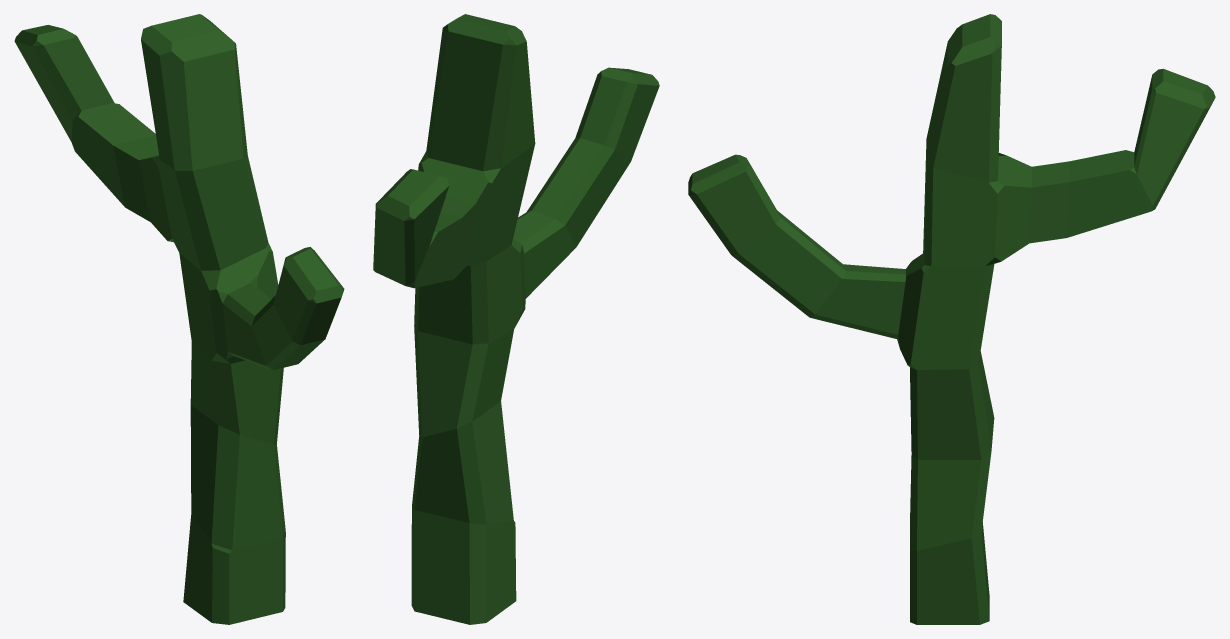
The model's file is cactus.fbx.
3 renders of one model, left to right at view 1: azimuth 30°, elevation 25°; view 2: azimuth 150°, elevation 25°; view 3: azimuth 270°, elevation 25°, orthographic. The views are drawn at different scales.
Visible parts, largest first — view 1: Cube; view 2: Cube; view 3: Cube.
Boxes of the visible parts, bbox=[...] form: Cube: bbox=[14, 14, 344, 624]; Cube: bbox=[373, 14, 659, 624]; Cube: bbox=[688, 14, 1215, 624].
Bounding box in the file's own units: 375 × 1563 × 1322.
